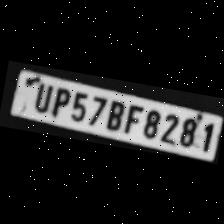1: (195, 116, 218, 152)
2: (154, 108, 180, 144)
5: (64, 87, 89, 123)
7: (84, 91, 107, 127)
8: (174, 112, 200, 149), (137, 104, 161, 140)
B: (100, 95, 125, 131)
F: (119, 100, 142, 136)
P: (45, 82, 69, 117)
U: (27, 78, 53, 112)
